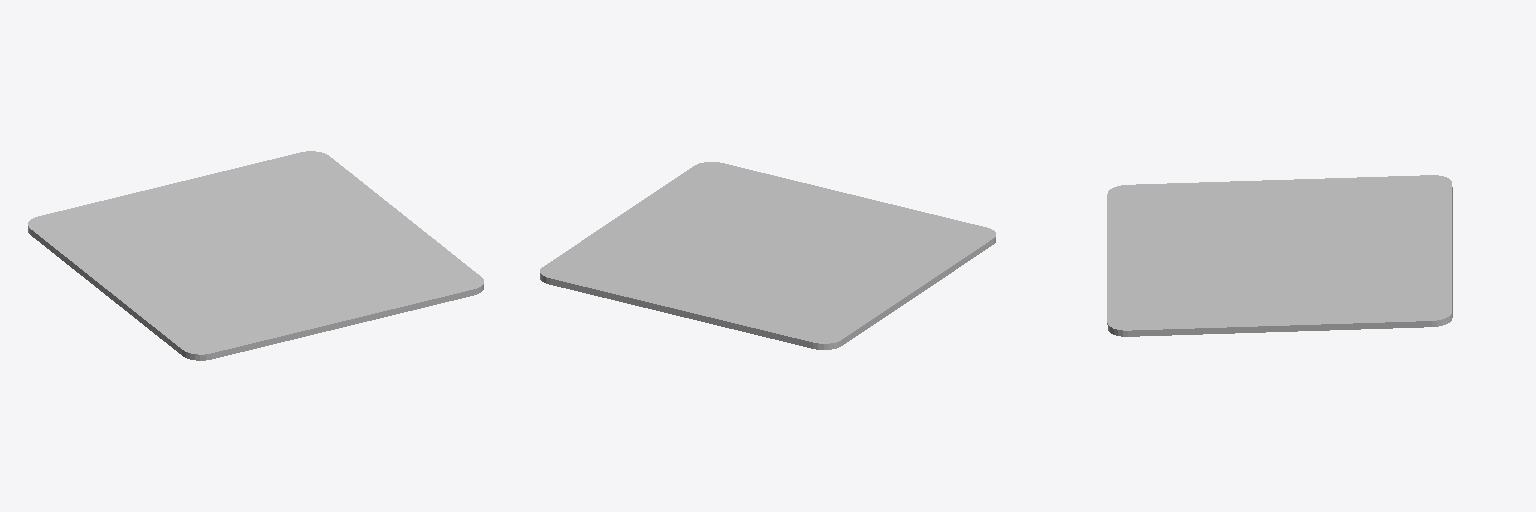
Rendered from aaaa.obj.
3 views of the same model, side by side, from view 1: azimuth 30°, elevation 25°; view 2: azimuth 150°, elevation 25°; view 3: azimuth 270°, elevation 25° (orthographic).
Visible parts, largest first — view 1: a; view 2: a; view 3: a.
Boxes of the visible parts, x1=… form: a: x1=28, y1=151, x2=483, y2=360; a: x1=540, y1=162, x2=995, y2=349; a: x1=1107, y1=175, x2=1452, y2=336.
Bounding box in the file's own units: 5.35 × 0.2934 × 5.35.